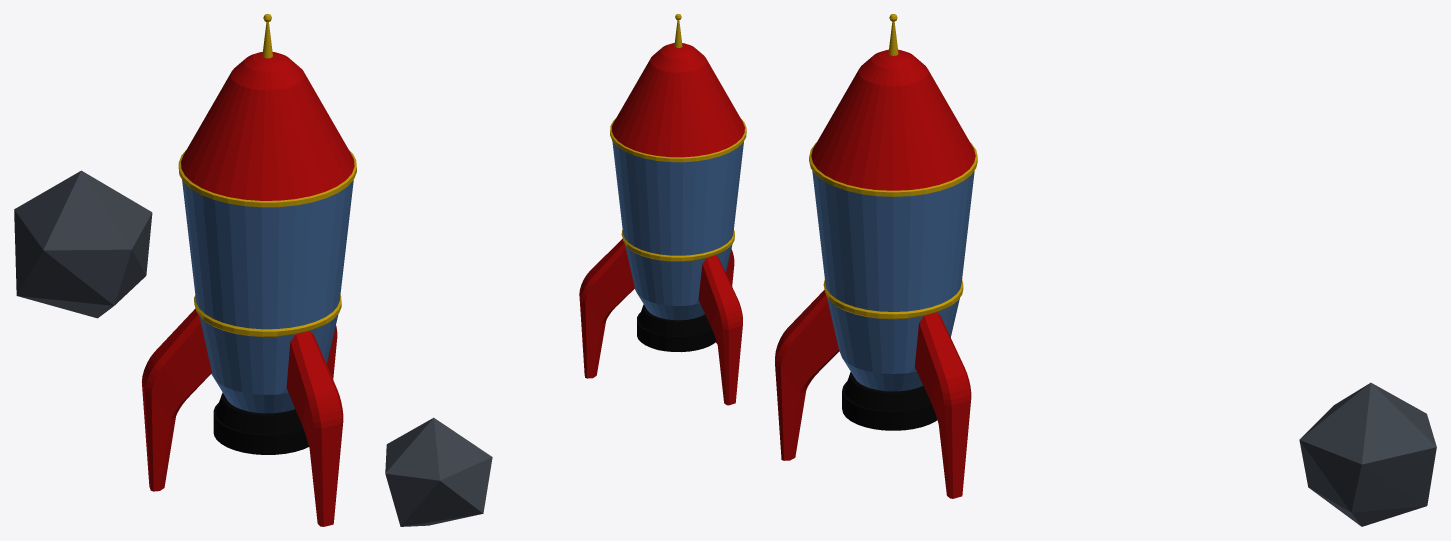
File: Rakete 2.0.fbx COOL.fbx
The picture shows the model from 3 angles, left to right: view 1: azimuth 30°, elevation 25°; view 2: azimuth 150°, elevation 25°; view 3: azimuth 270°, elevation 25°; orthographic projection. The views are drawn at different scales.
Parts seen in each view (by area): view 1: Zylinder.009, Icokugel; view 2: Zylinder.009, Icokugel; view 3: Zylinder.009, Icokugel.
Boxes of the visible parts, x1,y1,x2,y2 form: Zylinder.009: (142, 14, 356, 526); Icokugel: (14, 170, 152, 318); Zylinder.009: (579, 14, 746, 405); Icokugel: (385, 417, 492, 526); Zylinder.009: (775, 14, 977, 498); Icokugel: (1299, 382, 1436, 526).
Size of the model in its own units: 366 by 748 by 942.
